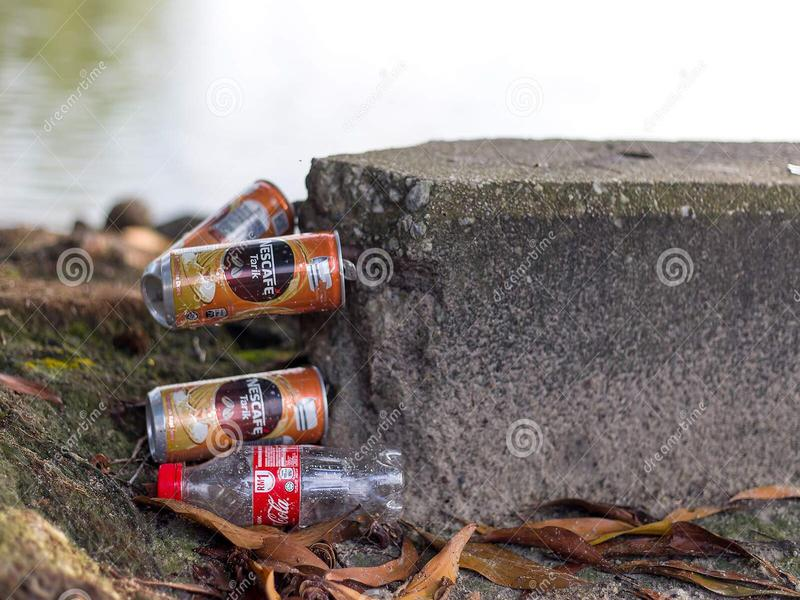bottle: (150, 441, 418, 535)
can: (158, 225, 358, 335), (138, 365, 336, 465)
leaf: (457, 516, 621, 575)
